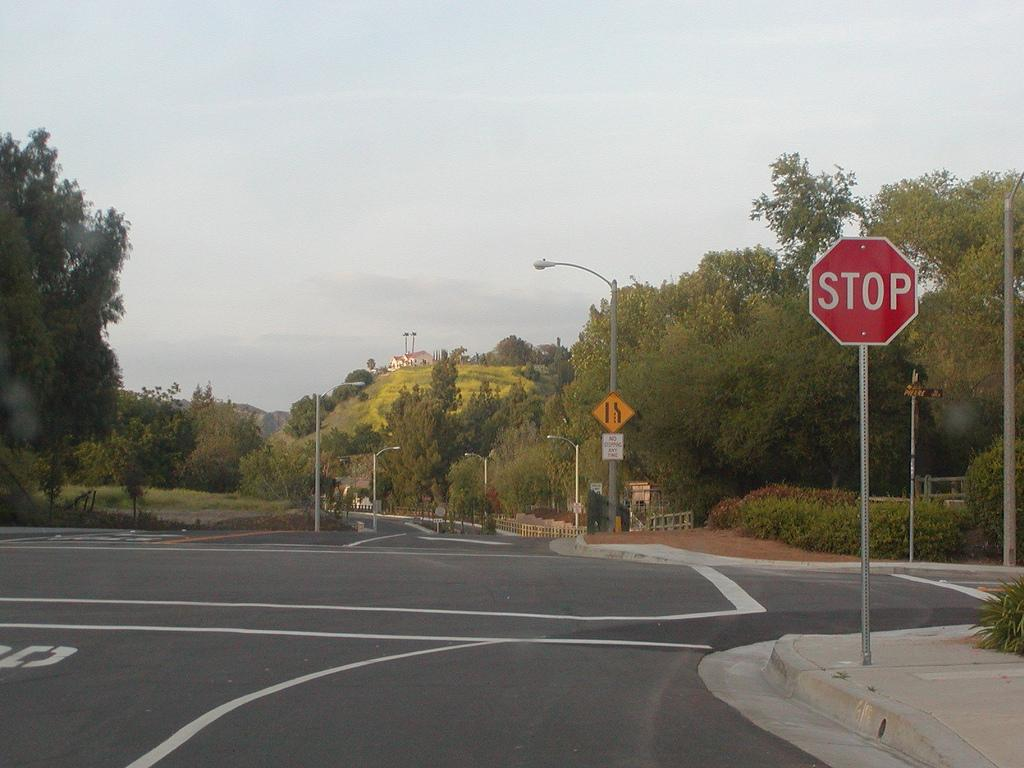Pole: (858, 353, 871, 657), (909, 400, 915, 562)
Sign: (809, 238, 916, 345)
